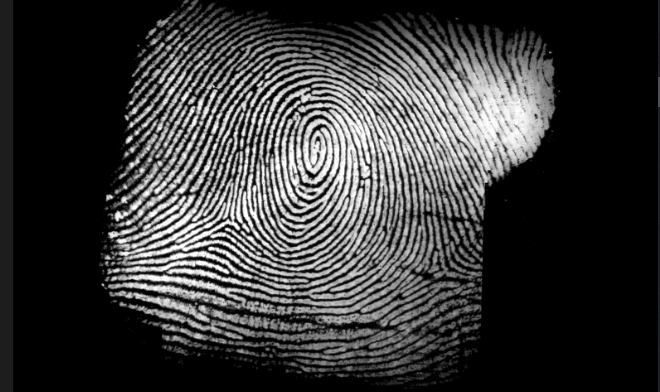deltas: (416, 235, 469, 292), (200, 197, 256, 247)
nucleo: (287, 116, 345, 179)
